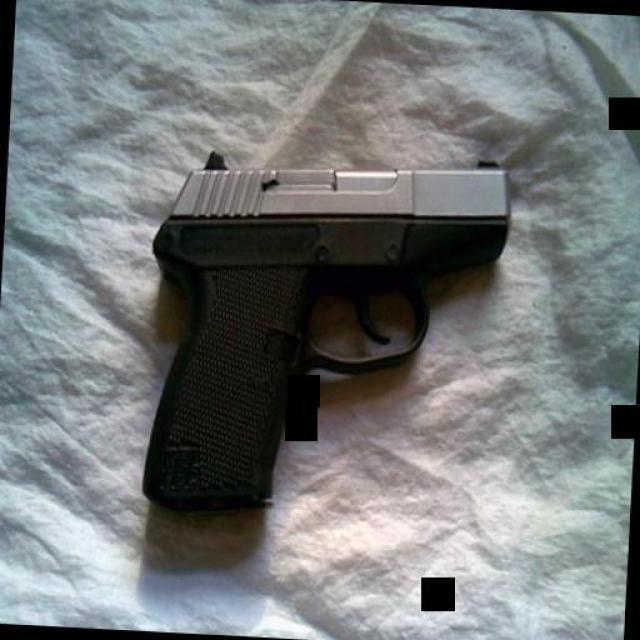gun: (138, 147, 512, 525)
